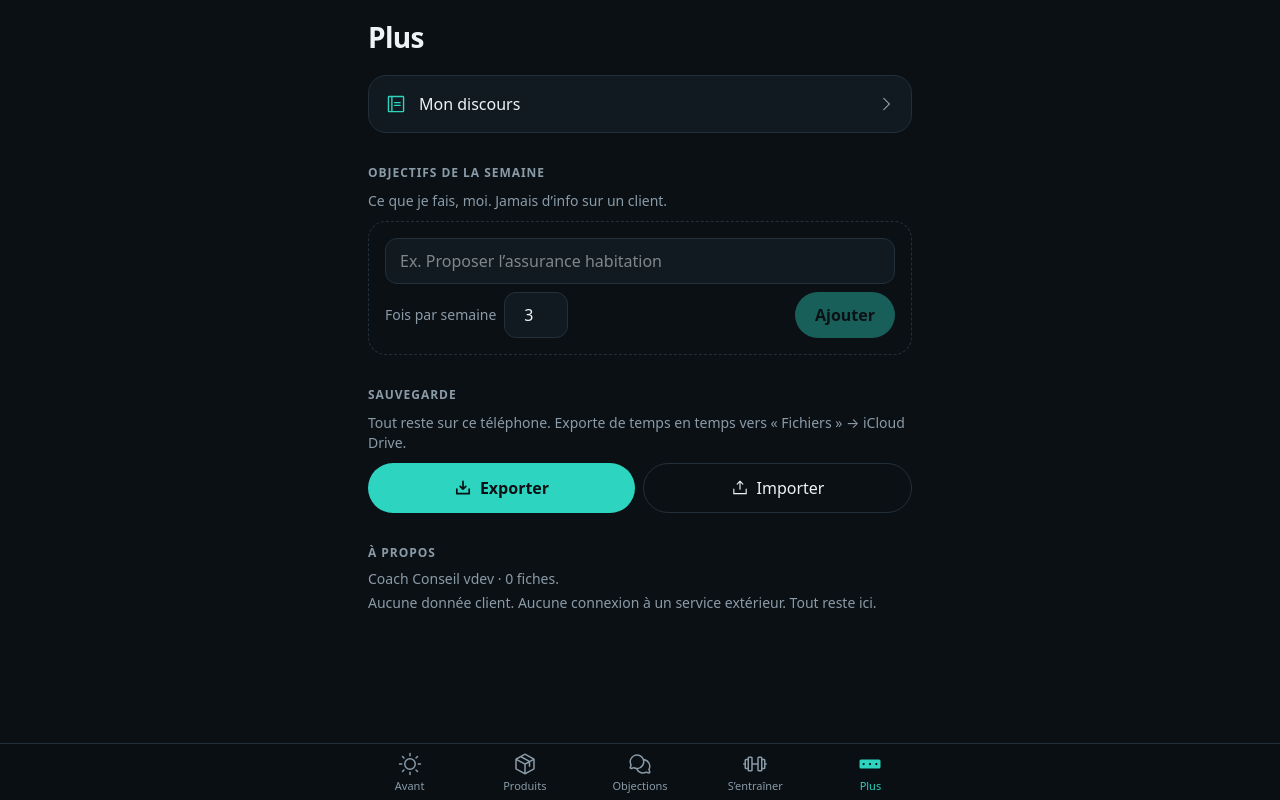
Test case: Plus › exporte et note la date du dernier export
Step 1. Click the button "Exporter" → (502, 488), box [368, 463, 635, 513]
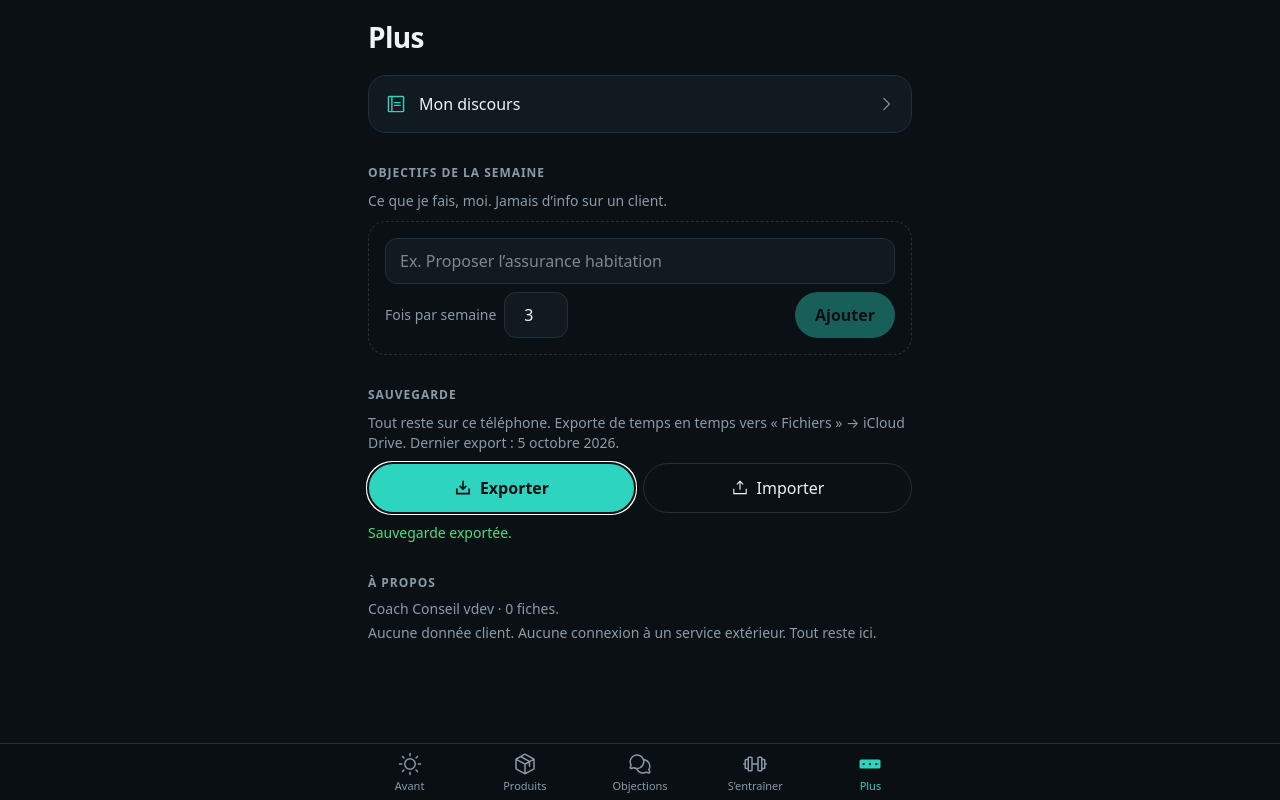
Expected: the message reads "Sauvegarde exportée.", [368, 523, 512, 542]
Expected: the text "Dernier export : 5 octobre 2026" is shown, [368, 413, 912, 453]
